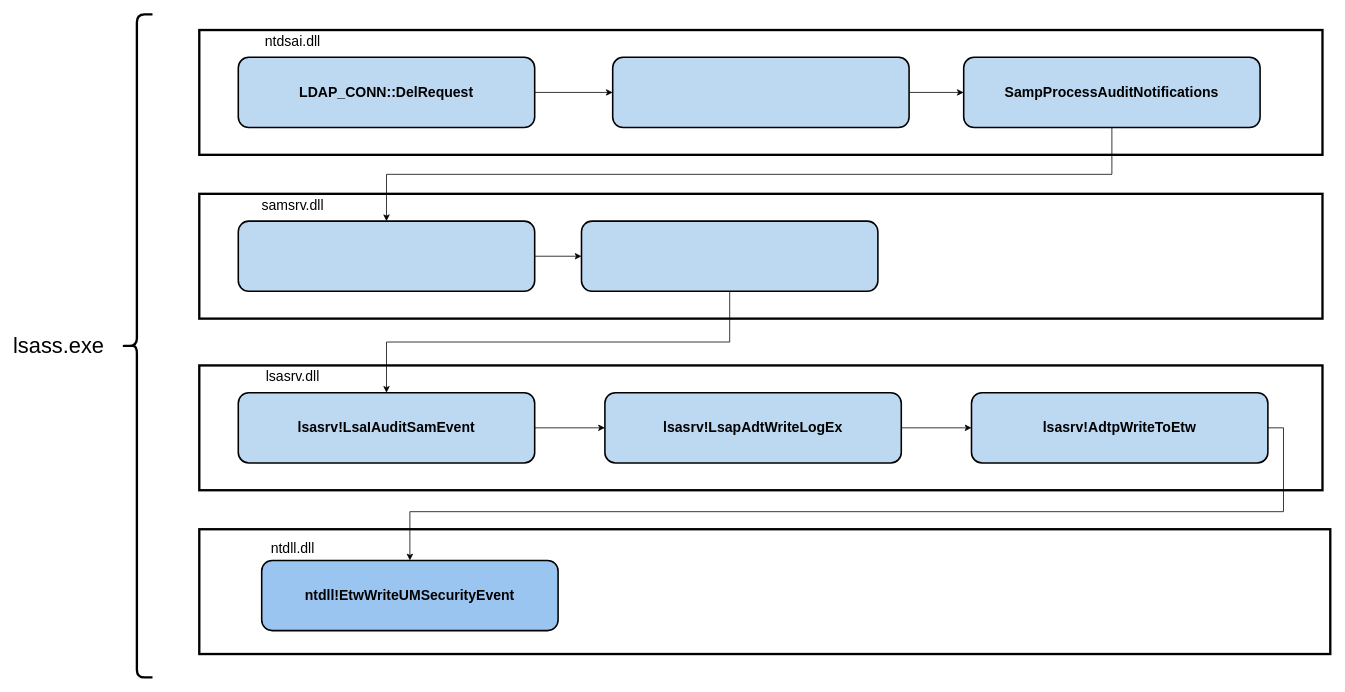
Some shapes in this 1345 by 692 pixel diagram are drawn without their labels. The box of each missing label's shape, as (x1, y1, x2, y2) in pixels:
DirRemoveEntryNative: (612, 56, 909, 128)
SampAuditUserDelete: (580, 220, 878, 292)
SampNotifyAuditChange: (237, 220, 535, 292)
